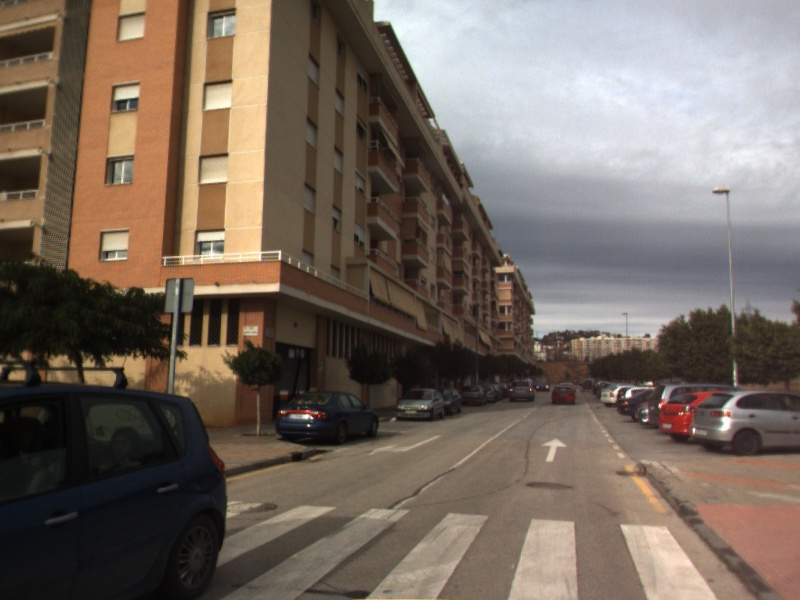STRAIGHT: (539, 436, 570, 464)
